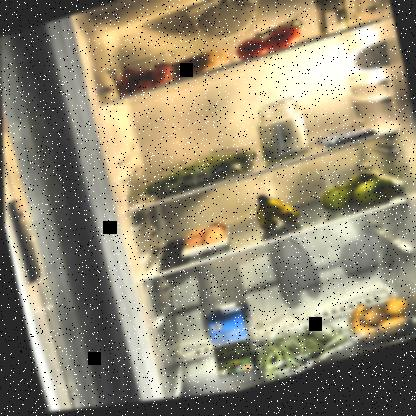apple: (315, 171, 399, 232)
banana: (249, 189, 303, 242)
chocolate: (316, 128, 376, 158)
eggs: (179, 222, 228, 261)
green_beans: (245, 317, 353, 390)
heavy_cream: (309, 0, 352, 47)
milk: (201, 301, 261, 385)
potato: (341, 295, 414, 361)
spinach: (129, 143, 252, 207)
strawberries: (109, 58, 180, 104)
tomato: (230, 20, 306, 70)
